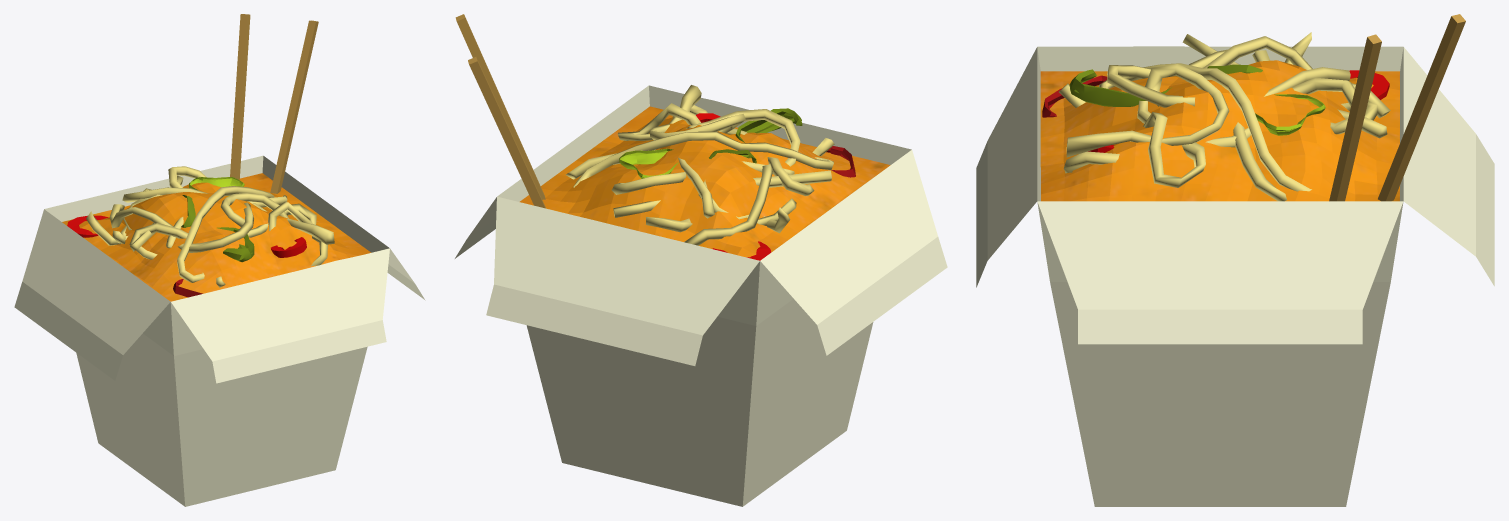
The model's file is pasta.glb.
3 views of the same model, side by side, from view 1: azimuth 30°, elevation 25°; view 2: azimuth 150°, elevation 25°; view 3: azimuth 270°, elevation 25° (orthographic). The views are drawn at different scales.
Parts seen in each view (by area): view 1: noodlebox; view 2: noodlebox; view 3: noodlebox.
Part boxes in pixels (bbox=[...]): noodlebox: bbox=[14, 14, 425, 506]; noodlebox: bbox=[455, 14, 947, 506]; noodlebox: bbox=[976, 14, 1494, 506].
Size of the model in its own units: 10.58 by 11.73 by 10.55.
Materials: 1 (1 with a texture image).
